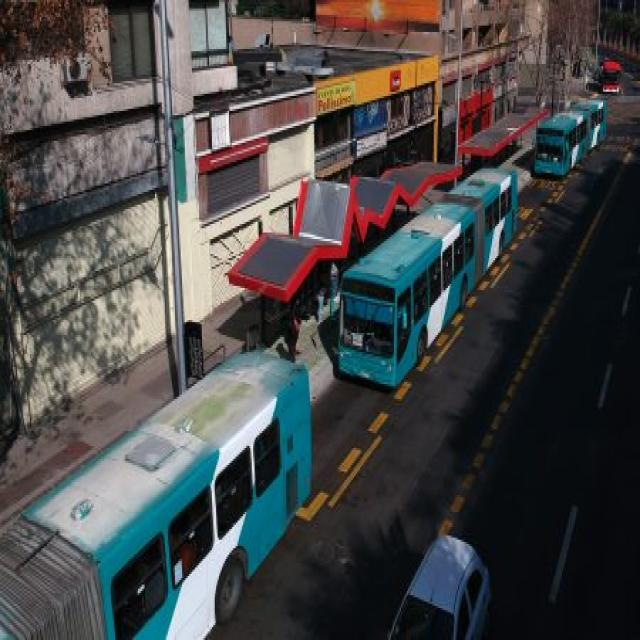AB: (1, 341, 316, 638), (334, 160, 522, 412), (530, 98, 608, 181)
